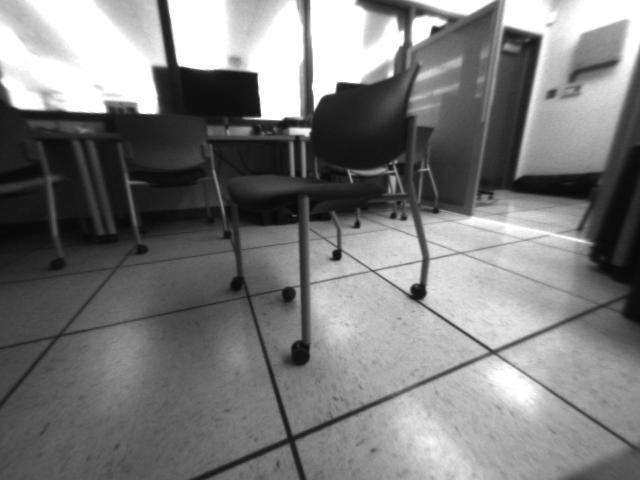dogtoy: (276, 280, 301, 305)
